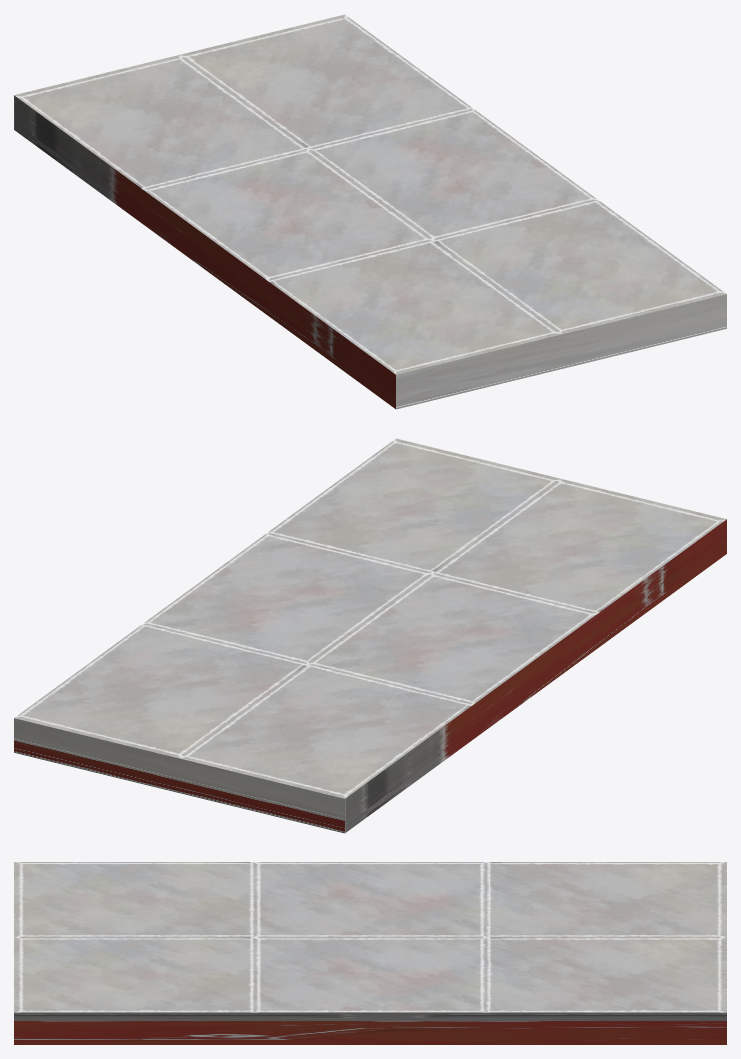
File: SM_Floor_Standard_B.fbx
The picture shows the model from 3 angles, top to bottom: view 1: azimuth 30°, elevation 25°; view 2: azimuth 150°, elevation 25°; view 3: azimuth 270°, elevation 25°; orthographic projection. The views are drawn at different scales.
Parts seen in each view (by area): view 1: SM_Floor_Standard_B; view 2: SM_Floor_Standard_B; view 3: SM_Floor_Standard_B.
Part boxes in pixels (x1,y1,x2,y2): SM_Floor_Standard_B: (14, 14, 726, 409); SM_Floor_Standard_B: (14, 438, 726, 833); SM_Floor_Standard_B: (14, 862, 726, 1044).
Size of the model in its own units: 100 by 10 by 200.
Materials: 1 (1 with a texture image).
